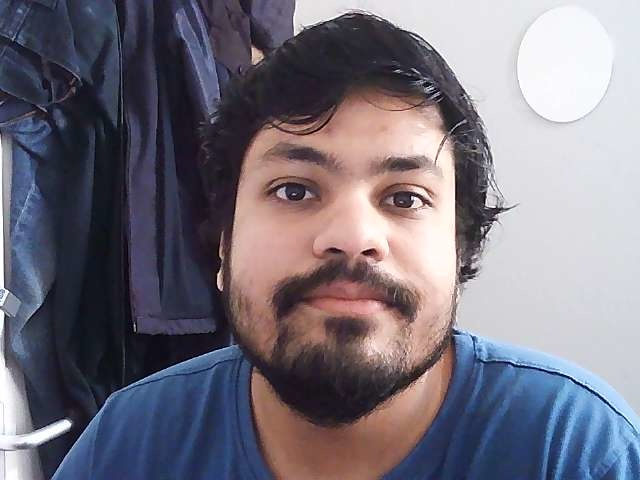Face: (197, 11, 521, 421)
